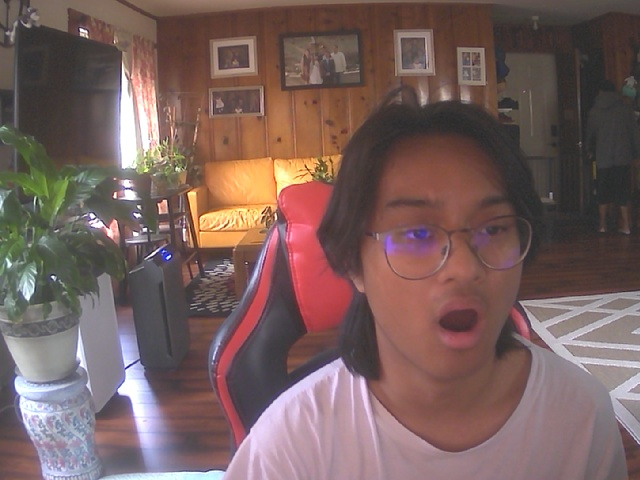fear: (342, 95, 545, 382)
